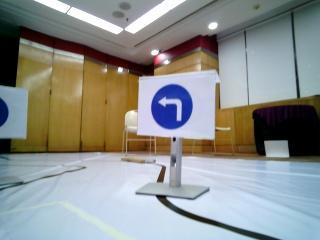left: (145, 79, 210, 134)
